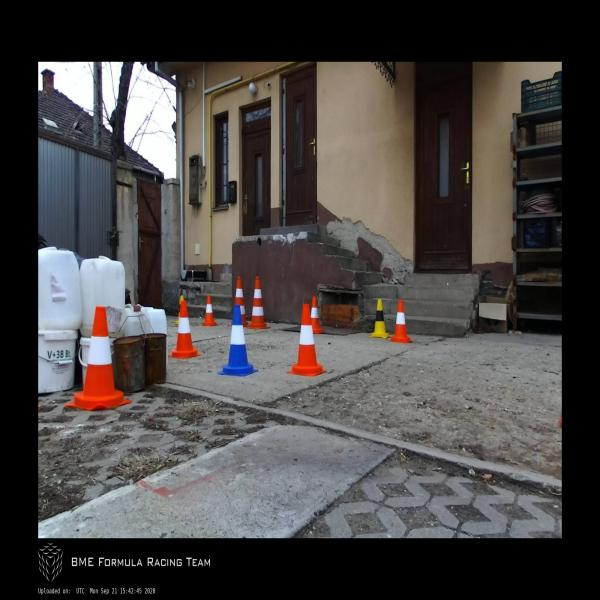blue_cone: (218, 306, 258, 377)
large_orange_cone: (246, 276, 271, 330), (228, 276, 250, 327)
orange_cone: (65, 306, 132, 410), (287, 304, 327, 376), (168, 300, 202, 358), (389, 300, 412, 343), (310, 296, 324, 334), (202, 294, 217, 326)
yellow_cone: (371, 298, 390, 339)
